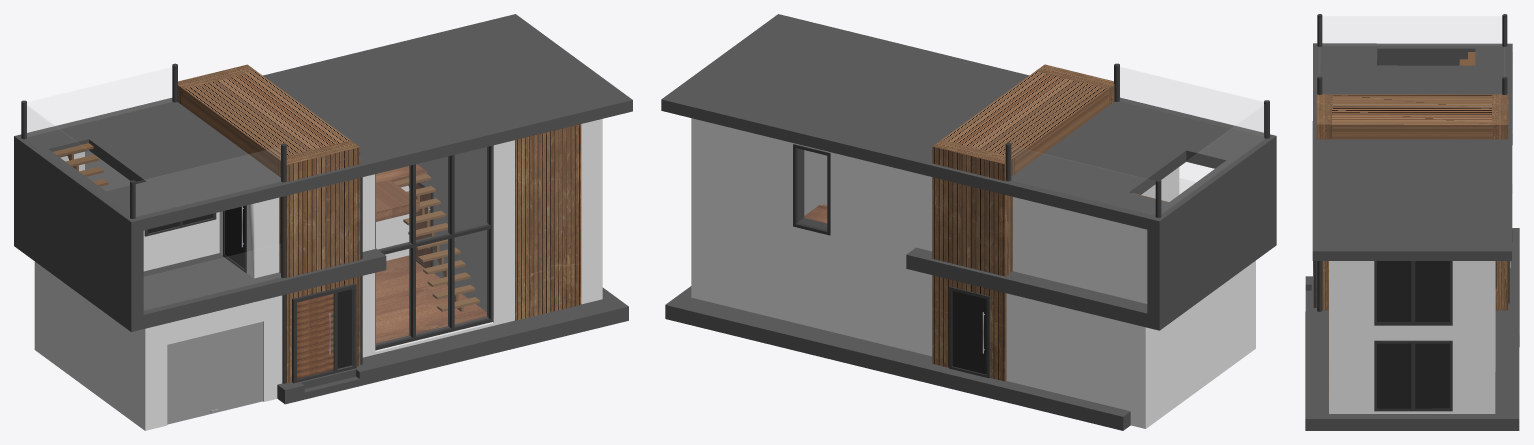
File: moderne-hus.glb
3 renders of one model, left to right at view 1: azimuth 30°, elevation 25°; view 2: azimuth 150°, elevation 25°; view 3: azimuth 270°, elevation 25°, orthographic. The views are drawn at different scales.
Parts seen in each view (by area): view 1: Cladding, Box009, Box012, Box091, Parter001, Box011, Box036, Parter, Box013, Box093, StraightStair002, Box018 (+9 smaller); view 2: Cladding, Parter001, Box012, Parter, Box009, Box011, Box101, Box013, Box052; view 3: Cladding, Box009, Box011, Parter001, Parter, Box103, Box105, Box107, Box109, Cylinder021, Box055, Box065.
Part boxes in pixels (x1,y1,x2,y2): Cladding: [14, 14, 632, 331]; Box009: [177, 64, 360, 383]; Box012: [34, 261, 282, 430]; Box091: [515, 124, 581, 320]; Parter001: [60, 119, 602, 278]; Box011: [277, 287, 628, 404]; Box036: [167, 321, 262, 424]; Parter: [362, 185, 602, 357]; Box013: [417, 147, 486, 311]; Box093: [376, 255, 486, 343]; StraightStair002: [393, 174, 480, 311]; Box018: [292, 283, 356, 383]; Cladding: [661, 14, 1276, 330]; Parter001: [691, 118, 1179, 303]; Box012: [1006, 260, 1255, 428]; Parter: [691, 206, 932, 356]; Box009: [932, 64, 1114, 381]; Box011: [665, 286, 1130, 430]; Box101: [952, 291, 986, 374]; Box013: [804, 150, 827, 215]; Box052: [793, 146, 804, 226]; Cladding: [1312, 43, 1512, 260]; Box009: [1316, 94, 1508, 310]; Box011: [1305, 228, 1519, 430]; Parter001: [1329, 261, 1495, 338]; Parter: [1329, 296, 1495, 413]; Box103: [1415, 343, 1449, 408]; Box105: [1377, 343, 1411, 408]; Box107: [1377, 261, 1411, 322]; Box109: [1415, 261, 1449, 322]; Cylinder021: [1317, 261, 1322, 311]; Box055: [1411, 342, 1414, 408]; Box065: [1411, 261, 1414, 325].
Size of the model in its own units: 22.19 by 10.65 by 9.68.
Materials: 9 (3 with a texture image).
